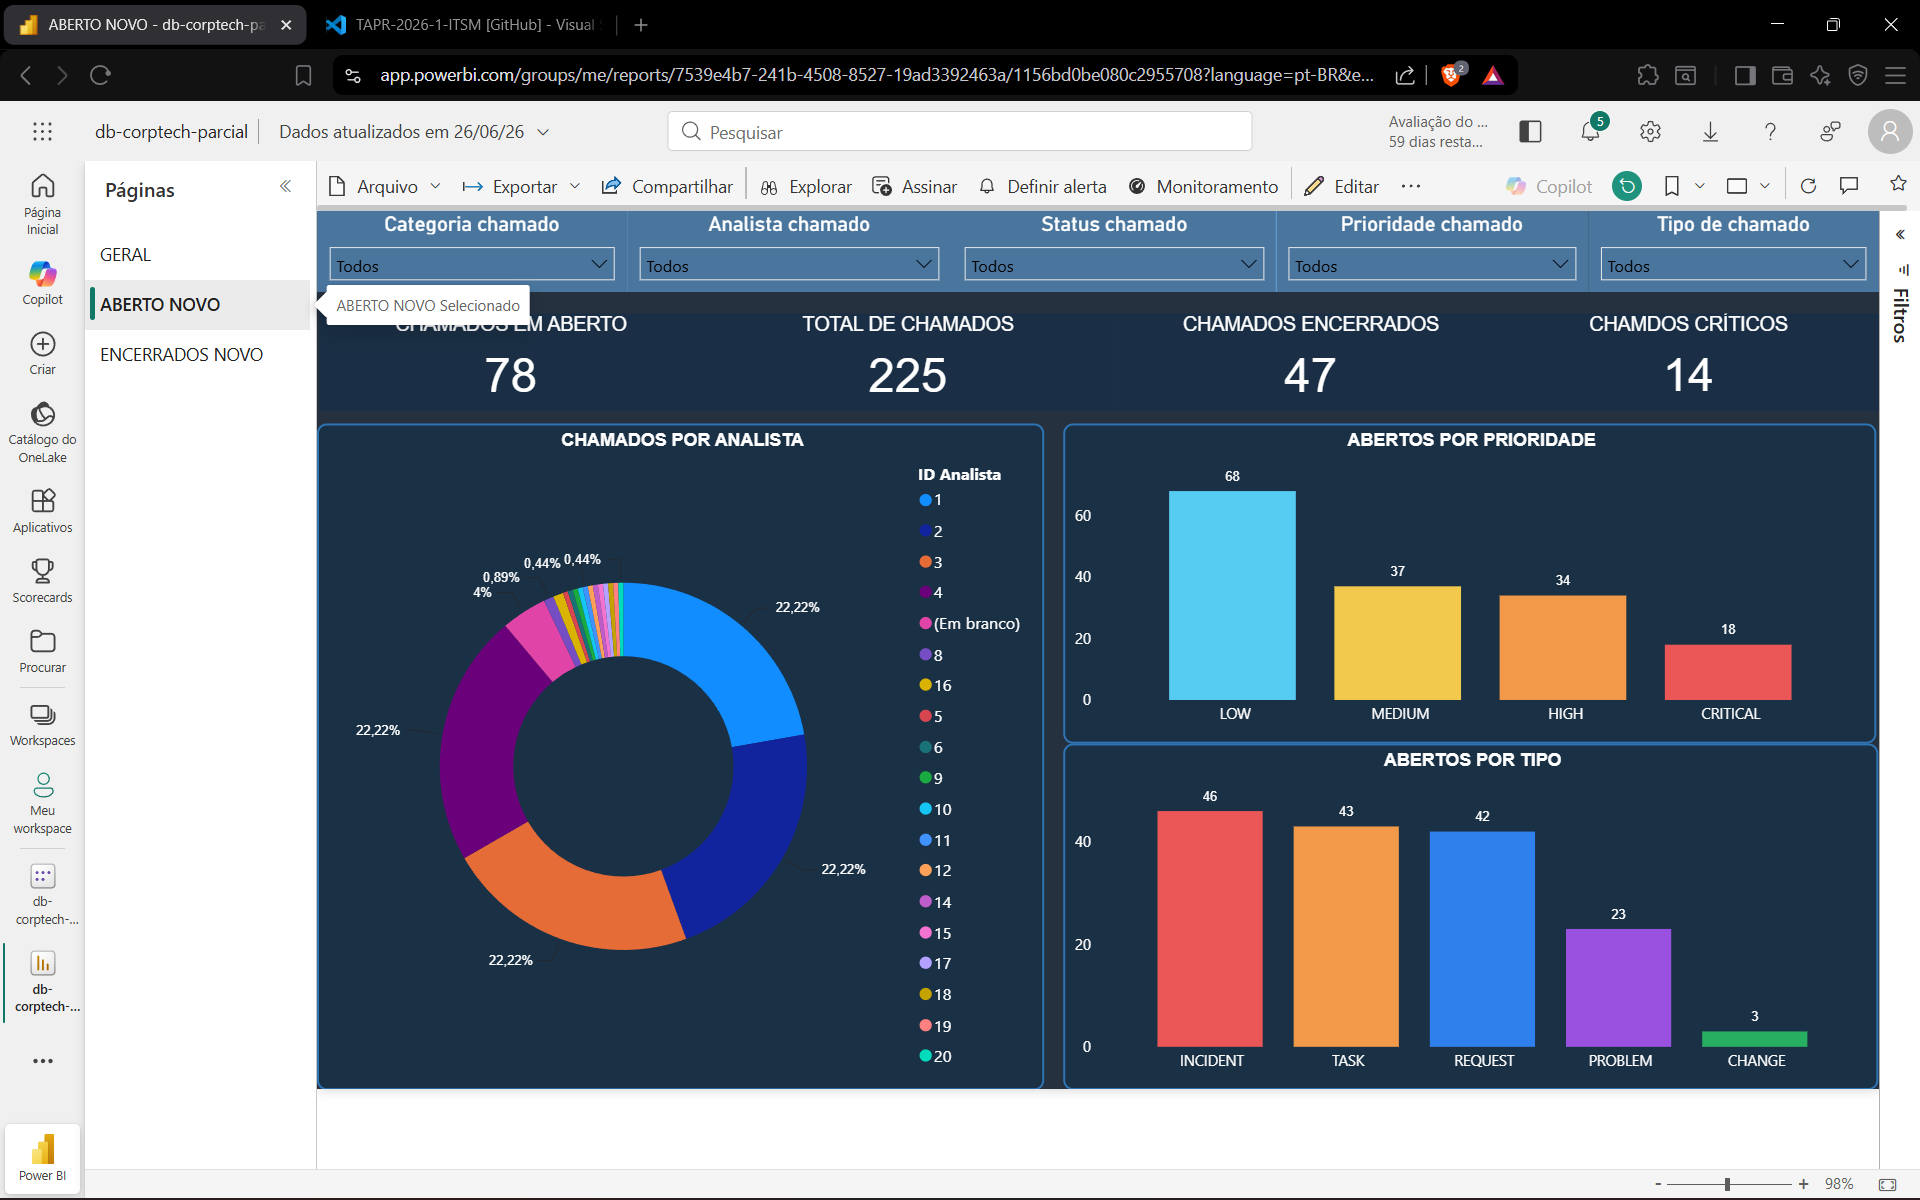

Layout of this report page (visuals, bound fields, positions):
{"tool":"powerbi","page":{"name":"ABERTO NOVO","canvas":[1280,720],"ordinal":1},"visuals":[{"type":"card","title":"CHAMADOS EM ABERTO","fields":{"Values":["chamado.Chamados Abertos"]},"box":[2,84,314,80],"z":0},{"type":"card","title":"CHAMDOS CRÍTICOS","fields":{"Values":["chamado.Criticos Abertos"]},"box":[968,84,312,80],"z":1000},{"type":"donutChart","title":"CHAMADOS POR ANALISTA","fields":{"Category":["chamado.id_analista_atual"],"Y":["chamado.Chamados"]},"box":[0,174,596,546],"z":2000},{"type":"clusteredColumnChart","title":"ABERTOS POR PRIORIDADE","fields":{"Category":["chamado.ds_prioridade"],"Y":["chamado.Qtd Chamados Abertos"]},"box":[612,174,666,262],"z":3000},{"type":"clusteredColumnChart","title":"ABERTOS POR TIPO","fields":{"Category":["chamado.ds_tipo_chamado"],"Y":["chamado.Qtd Chamados Abertos"]},"box":[612,436,668,284],"z":4000},{"type":"slicer","title":"Categoria chamado","fields":{"Values":["corptech categoria.nm_categoria"]},"box":[0,0,254,66],"z":5000},{"type":"slicer","title":"Analista chamado","fields":{"Values":["corptech analista.nm_analista"]},"box":[254,0,266,66],"z":6000},{"type":"slicer","title":"Status chamado","fields":{"Values":["chamado.ds_status_chamado"]},"box":[520,0,266,66],"z":7000},{"type":"slicer","title":"Prioridade chamado","fields":{"Values":["chamado.ds_prioridade"]},"box":[786,0,256,66],"z":8000},{"type":"slicer","title":"Tipo de chamado","fields":{"Values":["chamado.ds_tipo_chamado"]},"box":[1042,0,238,66],"z":9000},{"type":"card","title":"CHAMADOS ENCERRADOS","fields":{"Values":["chamado.Chamados Encerrados"]},"box":[654,84,322,80],"z":10000},{"type":"card","title":"TOTAL DE CHAMADOS","fields":{"Values":["chamado.Chamados"]},"box":[316,84,338,80],"z":11000}]}

Visuals, with their boxes on the page's 1280x720 design canvas (x1, y1, x2, y2). These are canvas units, not pixel positions in the 1920x1200 screenshot, which may show the page scaled, cropped or inside an application window:
"CHAMADOS EM ABERTO" card: box(2, 84, 316, 164)
"CHAMDOS CRÍTICOS" card: box(968, 84, 1280, 164)
"CHAMADOS POR ANALISTA" donutChart: box(0, 174, 596, 720)
"ABERTOS POR PRIORIDADE" clusteredColumnChart: box(612, 174, 1278, 436)
"ABERTOS POR TIPO" clusteredColumnChart: box(612, 436, 1280, 720)
"Categoria chamado" slicer: box(0, 0, 254, 66)
"Analista chamado" slicer: box(254, 0, 520, 66)
"Status chamado" slicer: box(520, 0, 786, 66)
"Prioridade chamado" slicer: box(786, 0, 1042, 66)
"Tipo de chamado" slicer: box(1042, 0, 1280, 66)
"CHAMADOS ENCERRADOS" card: box(654, 84, 976, 164)
"TOTAL DE CHAMADOS" card: box(316, 84, 654, 164)
